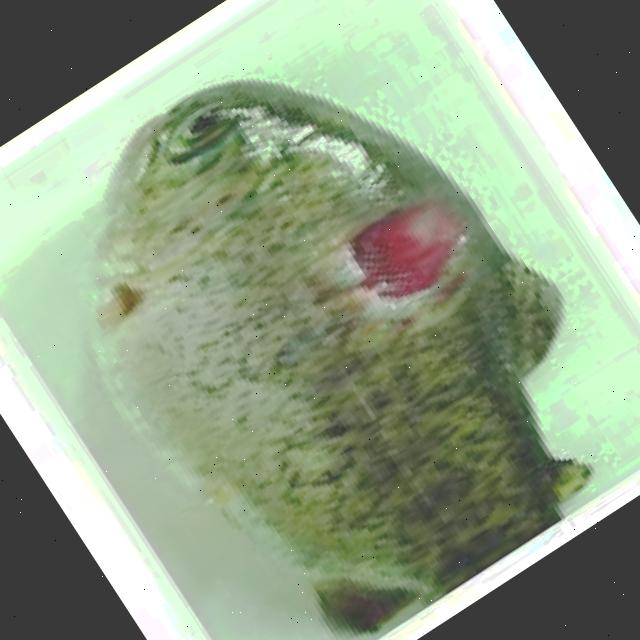Epizootic Ulcerative Syndrome -EUS-: (90, 79, 589, 634), (99, 81, 560, 632), (99, 81, 560, 632)
